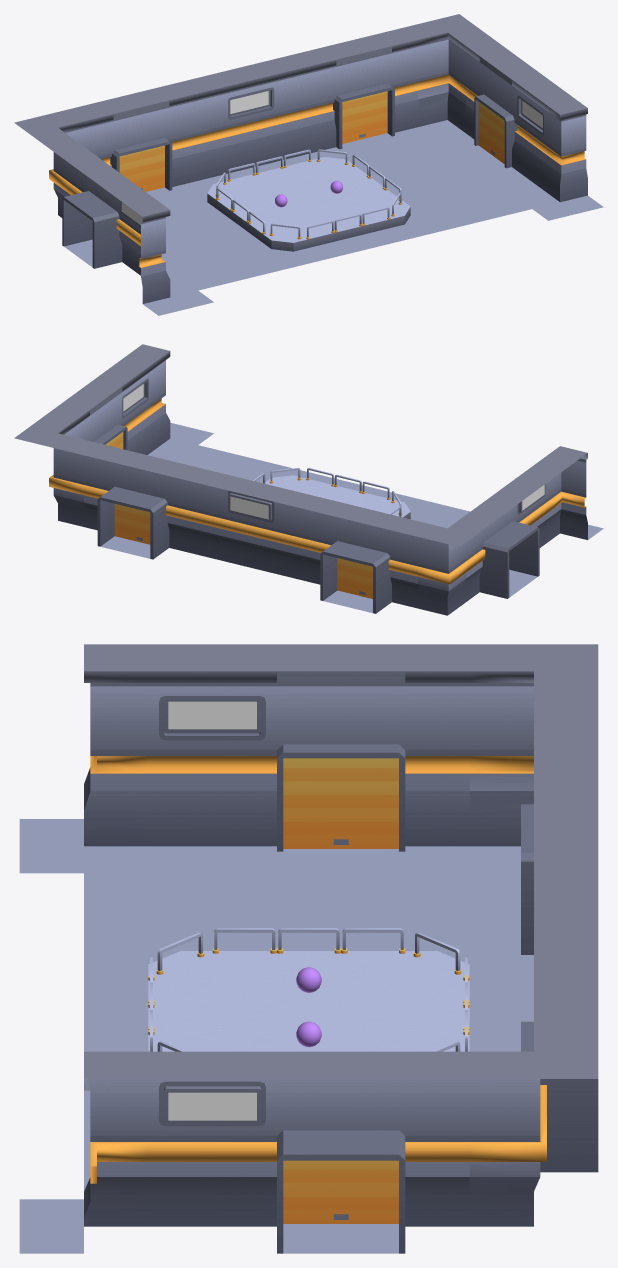
File: physics_demo.glb
3 views of the same model, one above another, from view 1: azimuth 30°, elevation 25°; view 2: azimuth 150°, elevation 25°; view 3: azimuth 270°, elevation 25° (orthographic). The views are drawn at different scales.
Visible parts, largest first — view 1: walls, floor-large.011, floor-corner; view 2: walls, floor-large.011, floor-corner; view 3: walls, floor-large.011, floor-corner.
Part boxes in pixels (x1,y1,x2,y2): walls: [14, 14, 603, 315]; floor-large.011: [161, 138, 531, 290]; floor-corner: [207, 157, 410, 251]; walls: [14, 344, 603, 615]; floor-large.011: [175, 445, 469, 528]; floor-corner: [265, 475, 410, 519]; walls: [19, 644, 598, 1253]; floor-large.011: [84, 873, 469, 1190]; floor-corner: [148, 951, 469, 1051].
Bounding box in the file's own units: 16 × 3 × 9.
Materials: 3 (1 with a texture image).
